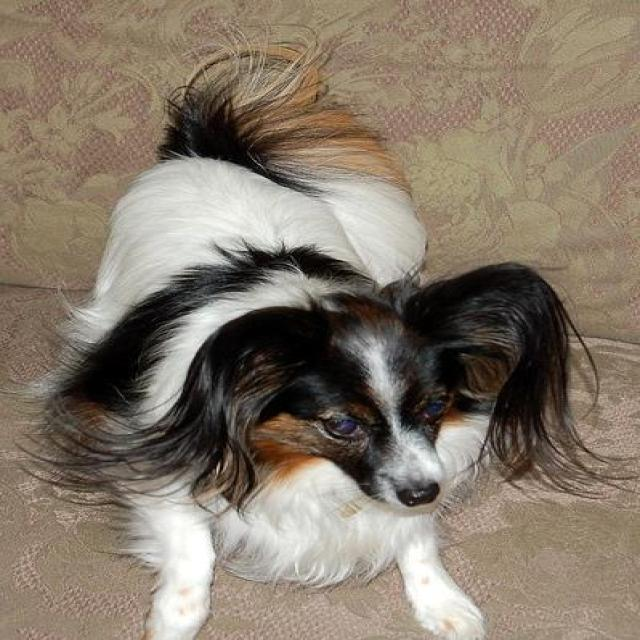papillon: (3, 17, 637, 638)
